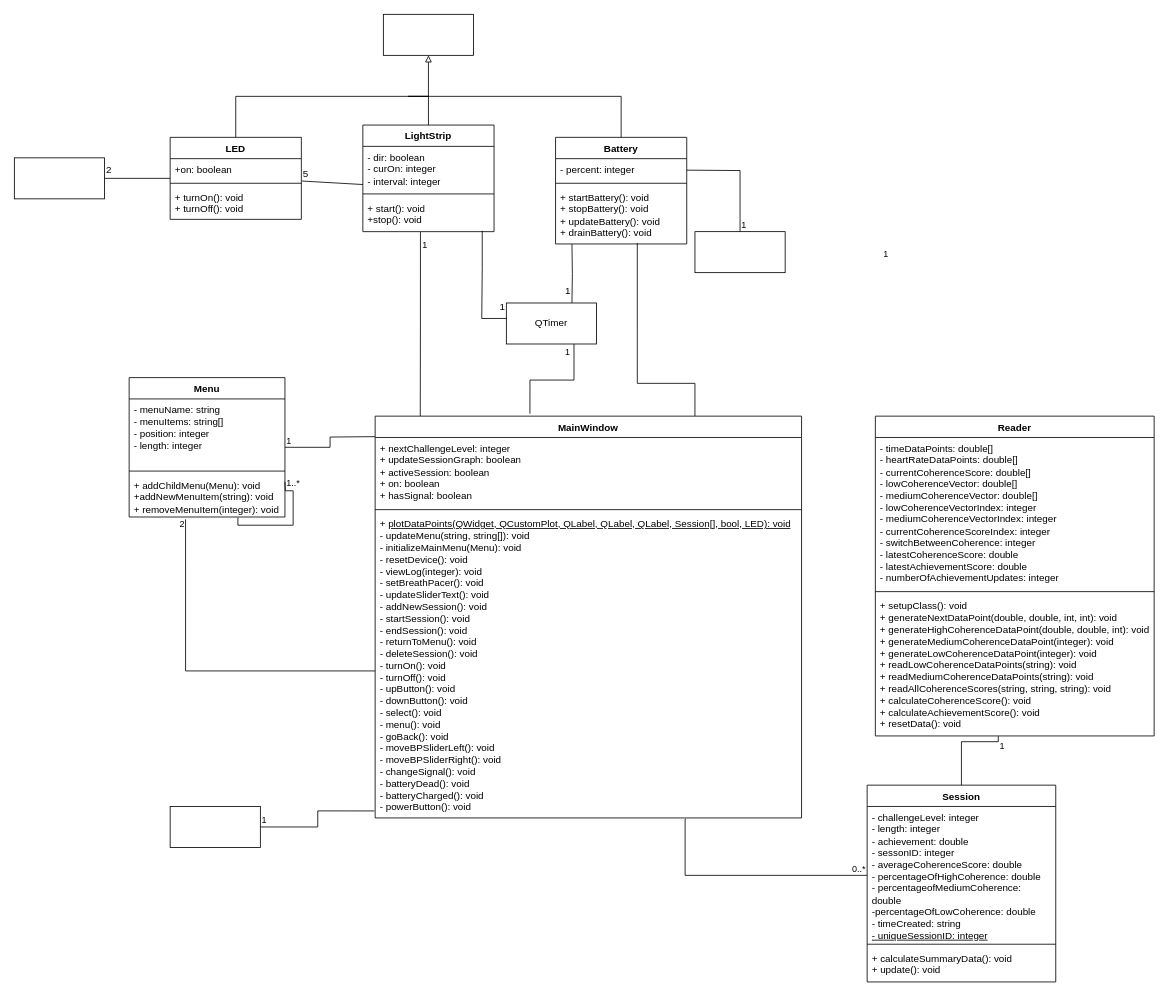
Image size: 1169x999. Some labels were removed from this diagram. The shapes that lost their labels are listed below. From the top down, each one's centre as x and y in pixels, then its label:
point 428,34: QWidget
point 59,178: QColor
point 739,252: QSlider
point 214,826: QListWidget
